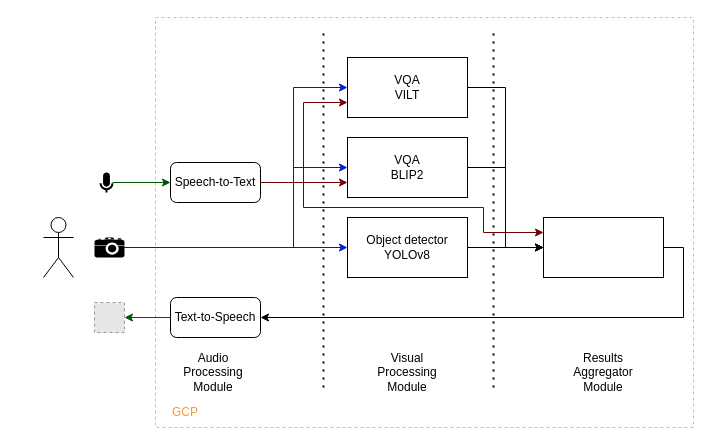
This 711x445 diagram has some shape labels left out. Grey dashed boxes stand in for pictures. Each missing label, with the centre of its shape:
LLM Palm2: the point at 603,247
Vision-impaired User: the point at 58,247
